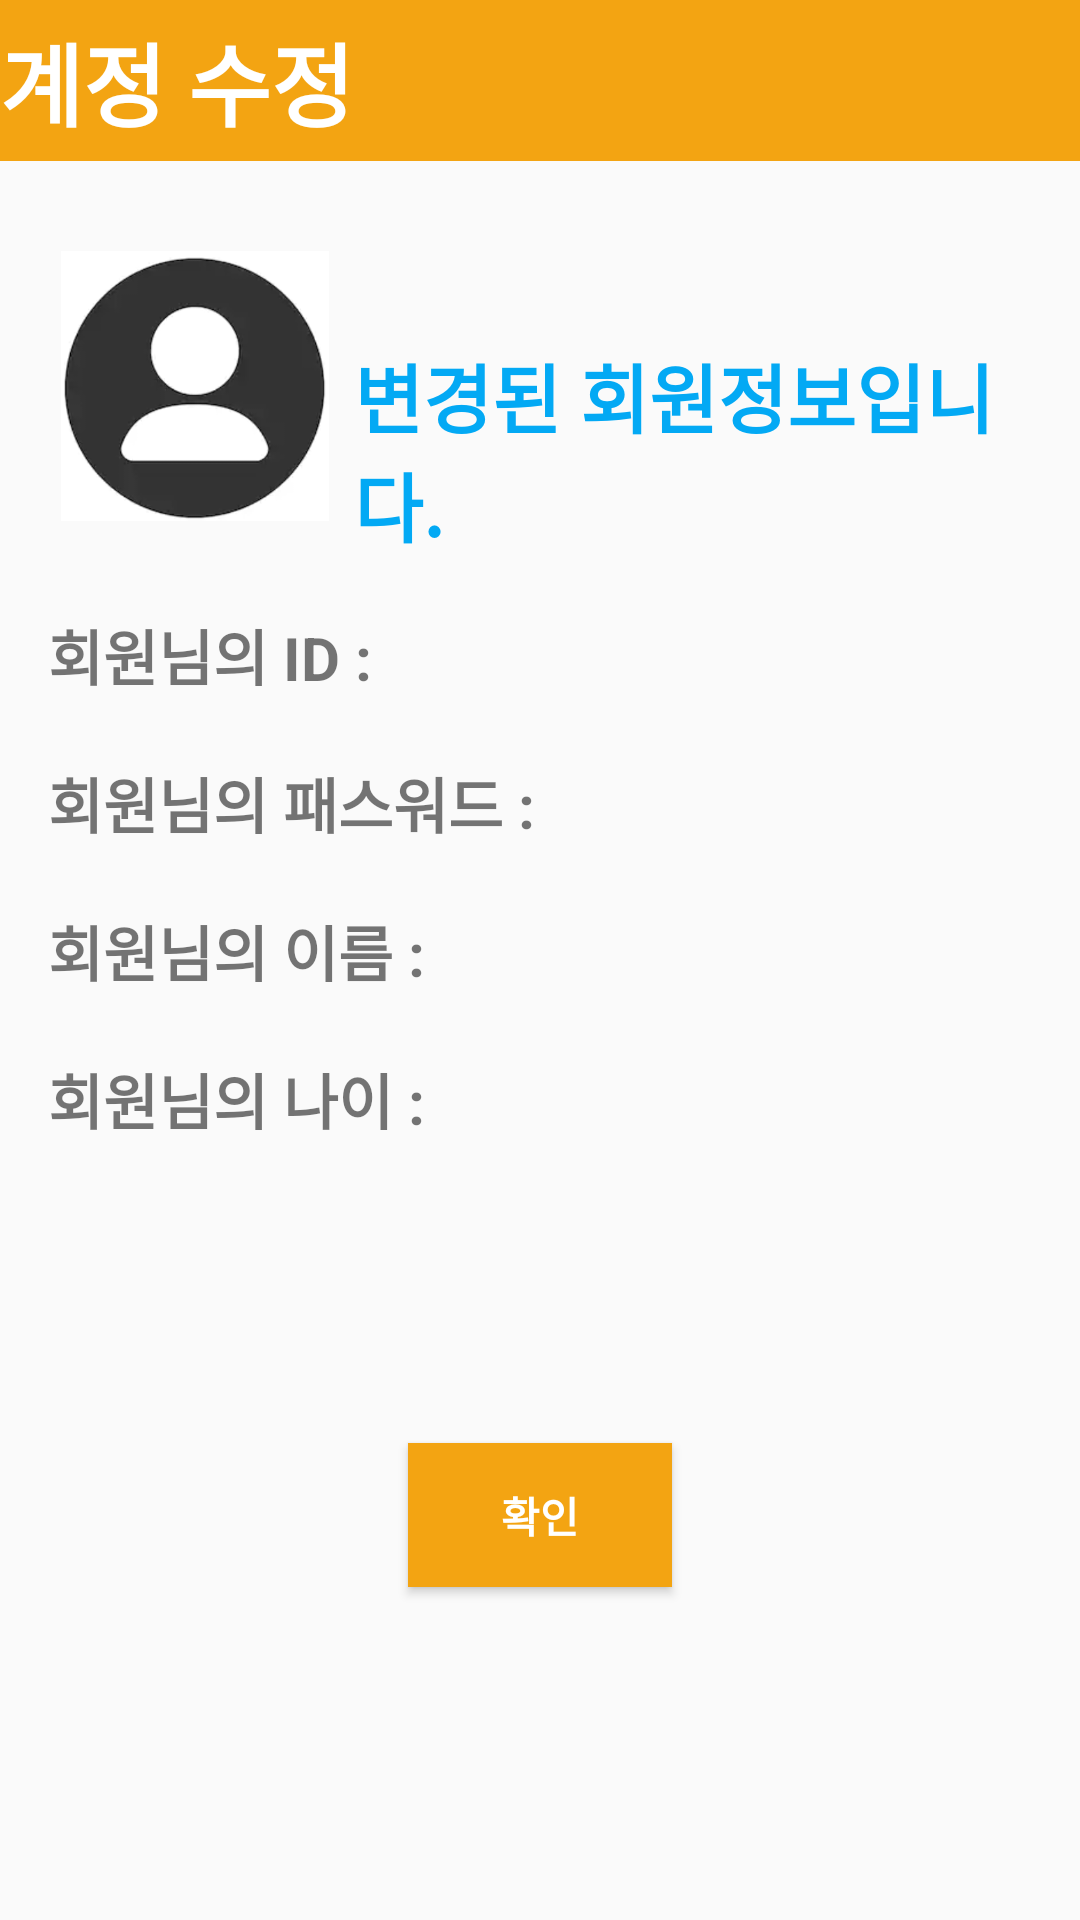

Named icons in this screenshot (1080px x 1920px) and their bounding boxes, region(x1, y1, x2, y2):
profile: region(64, 258, 325, 519)
